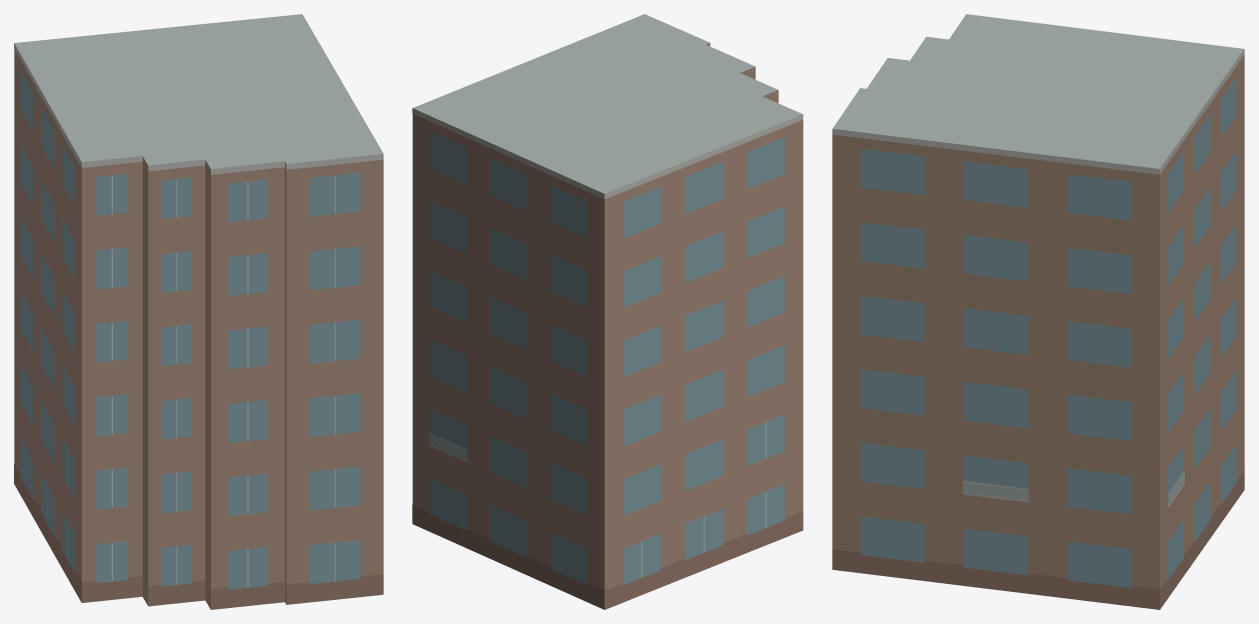
Rendered from survey-upis-33019461.glb.
3 renders of one model, left to right at view 1: azimuth 30°, elevation 25°; view 2: azimuth 150°, elevation 25°; view 3: azimuth 270°, elevation 25°, orthographic. The views are drawn at different scales.
Parts seen in each view (by area): view 1: survey-upis-33019461.tmp; view 2: survey-upis-33019461.tmp; view 3: survey-upis-33019461.tmp.
Part boxes in pixels (x1,y1,x2,y2): survey-upis-33019461.tmp: (14, 14, 383, 609); survey-upis-33019461.tmp: (412, 14, 803, 609); survey-upis-33019461.tmp: (832, 14, 1244, 609).
Size of the model in its own units: 14.03 by 18.6 by 15.77.
